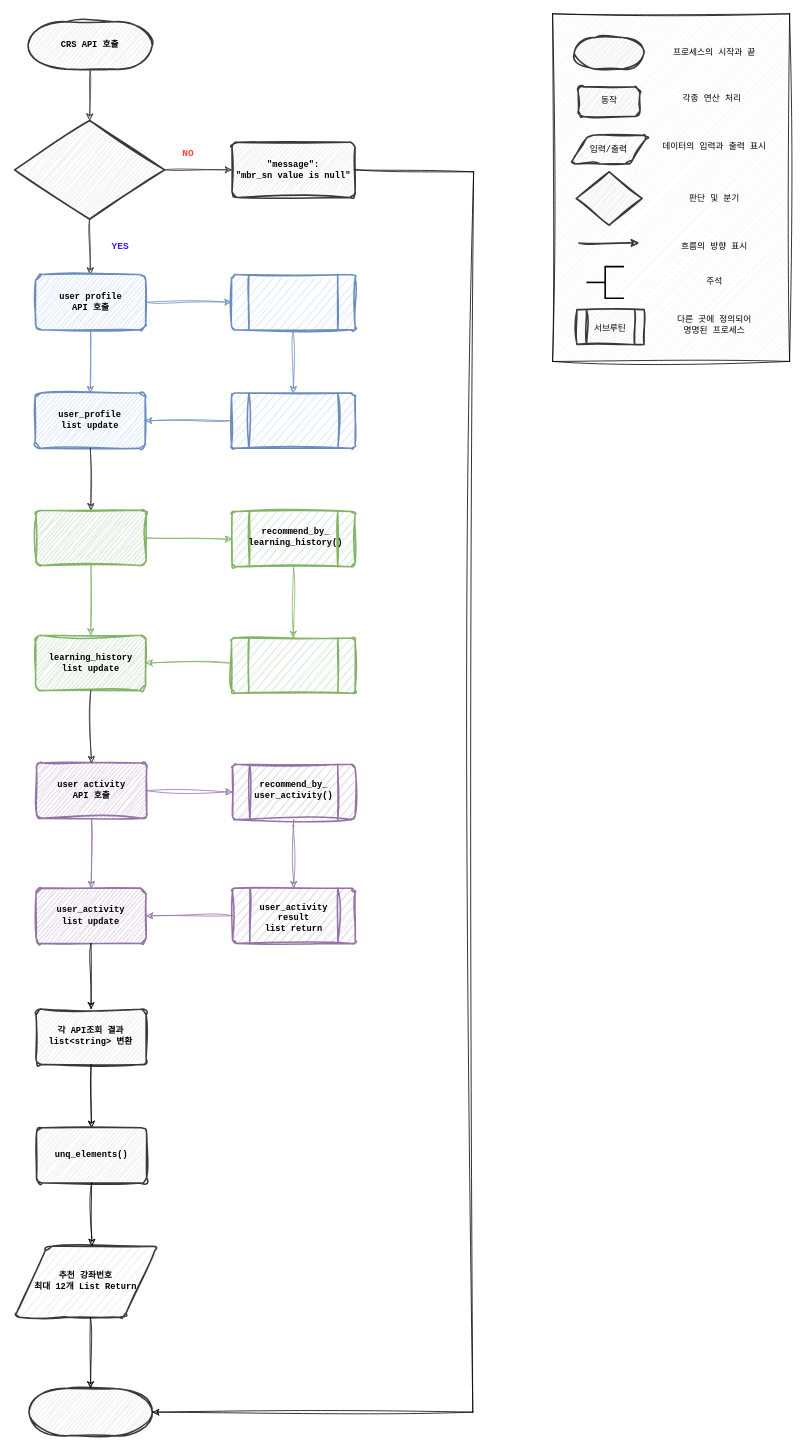
This 803x1450 diagram has some shape labels left out. Here are the shapes that lost their labels. From the top down, the centre of each, then its label:
At point 608,53: "시작/끝".
At point 89,169: "회원이 존재 하는가?".
At point 609,198: "분기점".
At point 293,301: "recommend_by_ user_profile()".
At point 293,420: "user_profile result list return".
At point 91,537: "learning history API 호출".
At point 293,665: "learning_history result list return".
At point 90,1411: "CRS API 종료".
